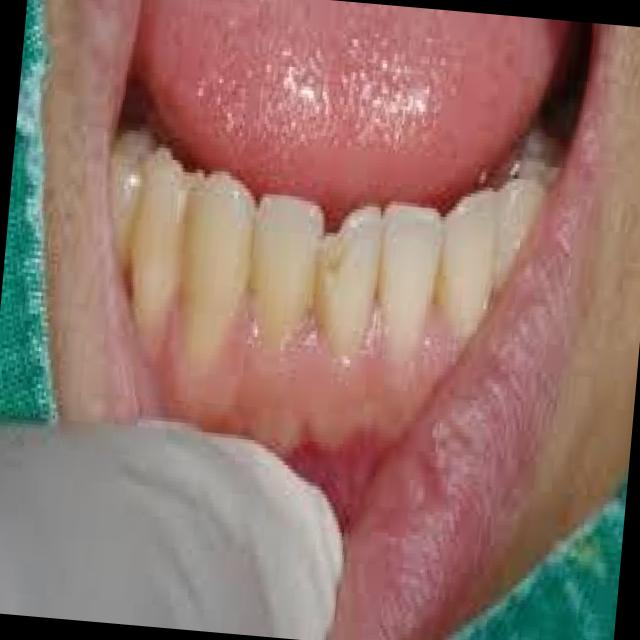Tooth: (177, 170, 256, 365), (130, 156, 206, 330), (248, 193, 325, 350), (315, 206, 381, 356), (378, 204, 442, 356), (432, 190, 500, 330), (109, 130, 173, 273)
